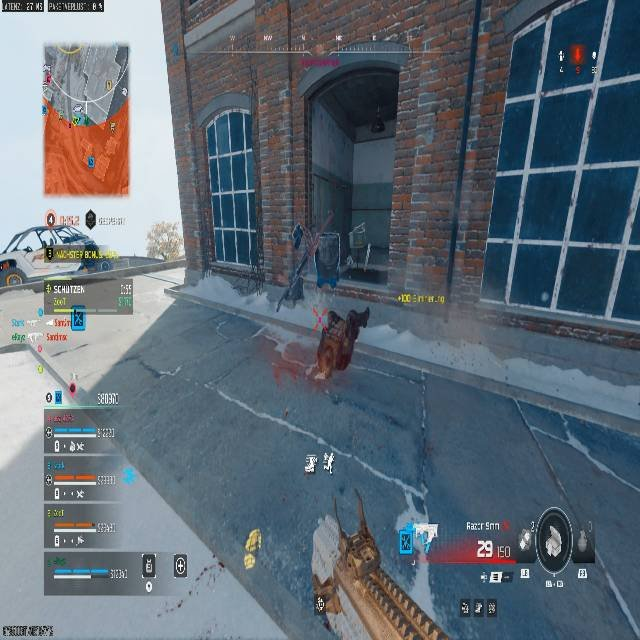player: (0, 211, 111, 288), (292, 224, 303, 250)
